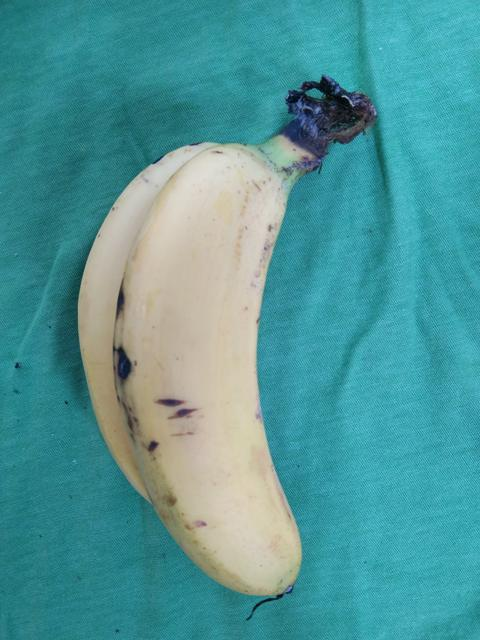ripe: (104, 137, 329, 616)
